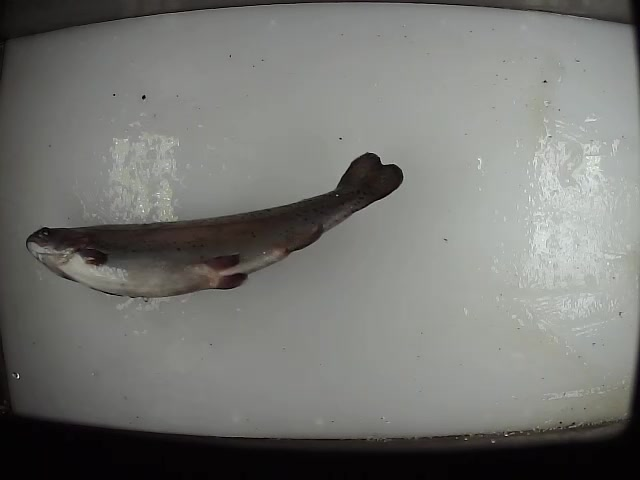fish: (25, 152, 405, 304)
